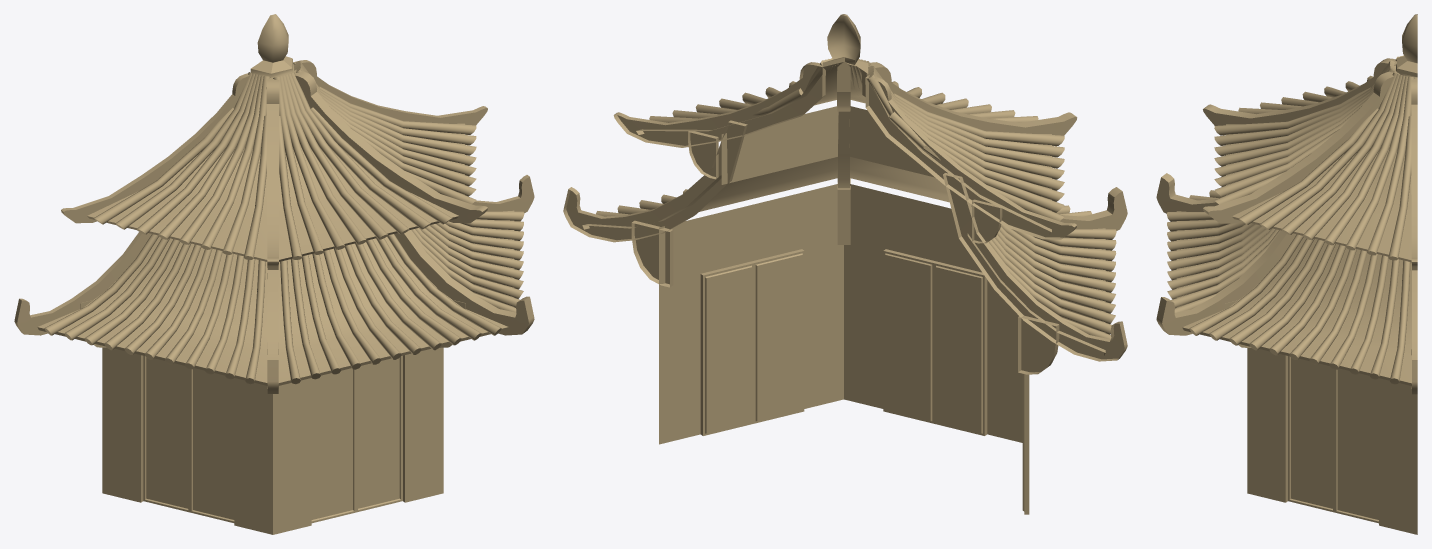
File: BGSanctuary-building-1.fbx
The picture shows the model from 3 angles, left to right: view 1: azimuth 30°, elevation 25°; view 2: azimuth 150°, elevation 25°; view 3: azimuth 270°, elevation 25°; orthographic projection. The views are drawn at different scales.
Parts seen in each view (by area): view 1: BGSanctuary-building-1; view 2: BGSanctuary-building-1; view 3: BGSanctuary-building-1.
Boxes of the visible parts, left/top/right/bottom form: BGSanctuary-building-1: left=14, top=14, right=534, bottom=534; BGSanctuary-building-1: left=563, top=14, right=1127, bottom=514; BGSanctuary-building-1: left=1156, top=14, right=1417, bottom=534.
Bounding box in the file's own units: 1407 × 1136 × 616.
